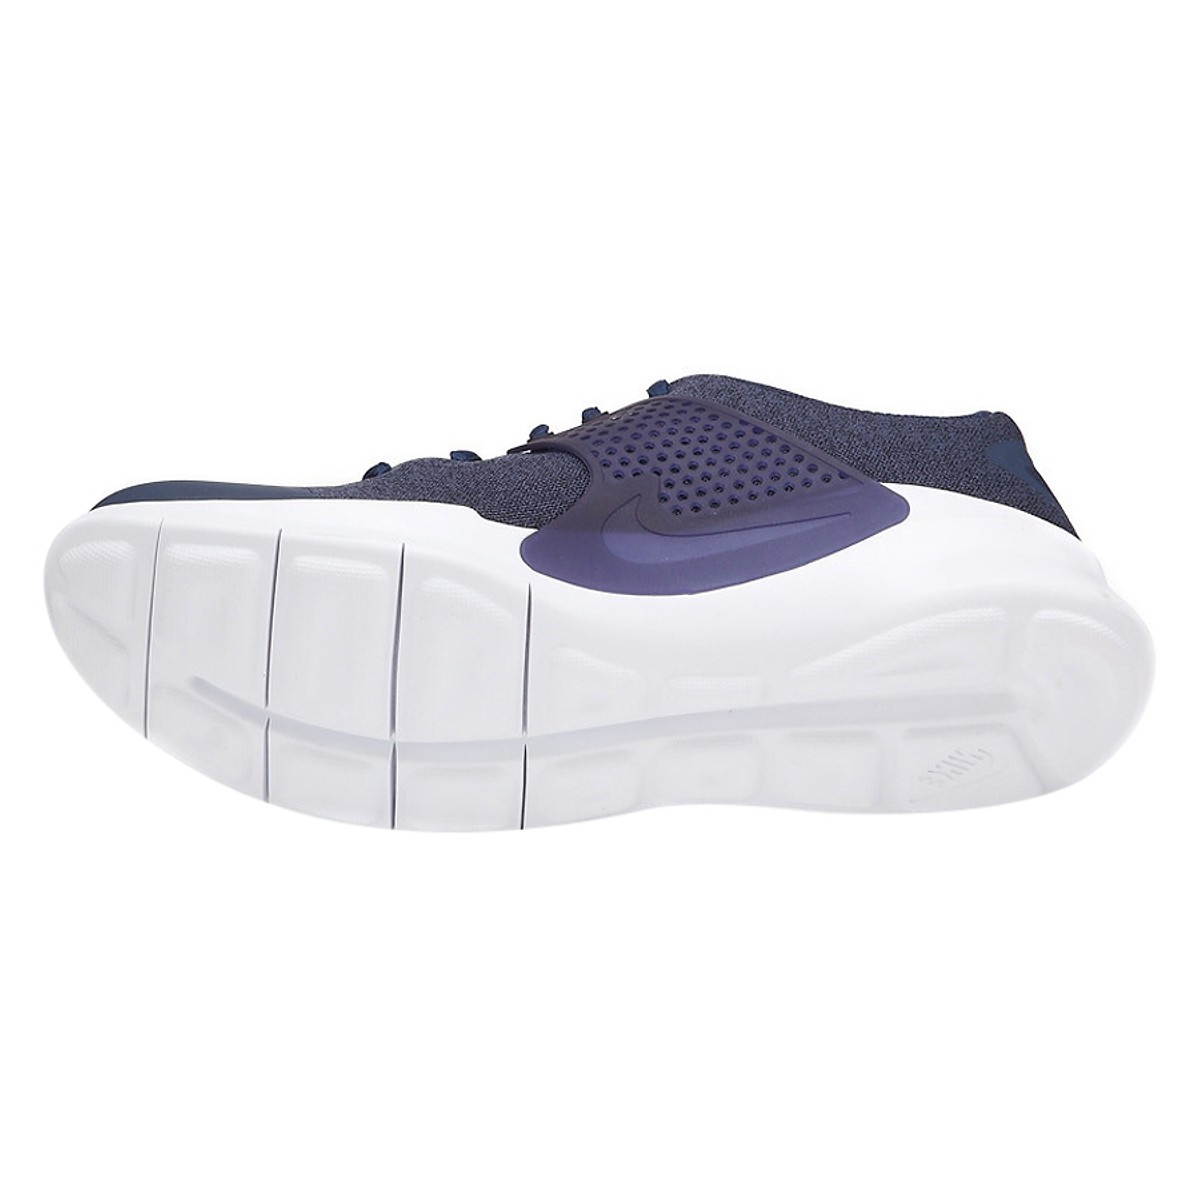Nike: (516, 451, 864, 652)
